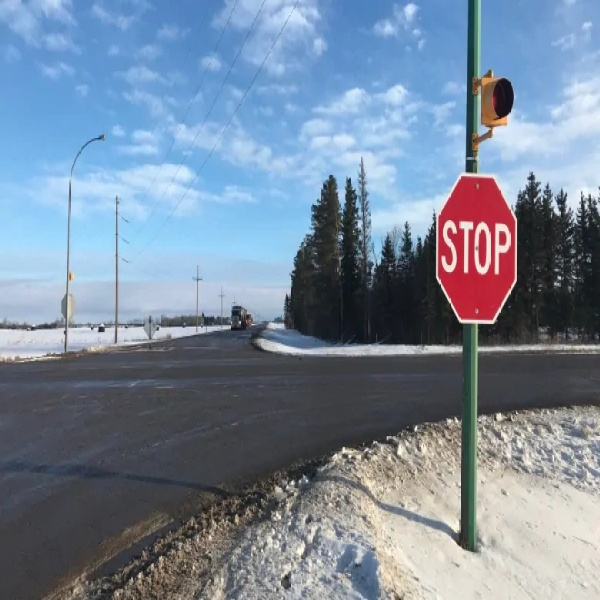stop: (441, 176, 515, 322)
